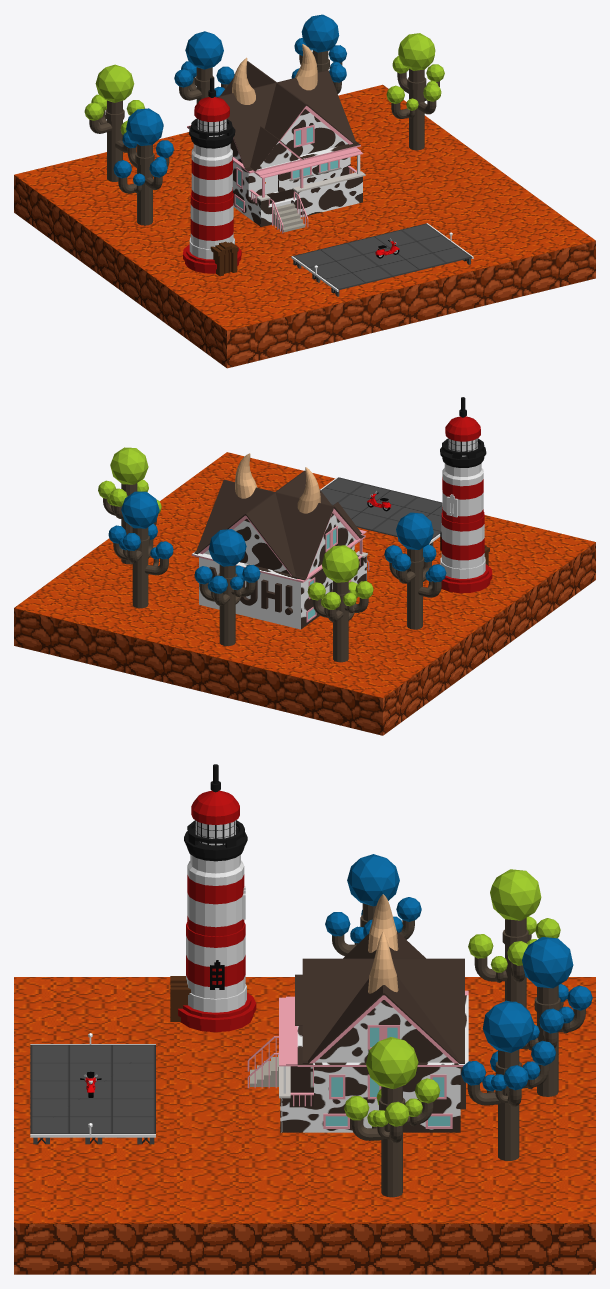
3 renders of one model, top to bottom at view 1: azimuth 30°, elevation 25°; view 2: azimuth 150°, elevation 25°; view 3: azimuth 270°, elevation 25°, orthographic. The views are drawn at different scales.
Parts seen in each view (by area): view 1: Cube.001, Cube.1242, OBJRANDOM_LIGHTHOUSE; view 2: Cube.001, Cube.1242, OBJRANDOM_LIGHTHOUSE; view 3: Cube.001, Cube.1242, OBJRANDOM_LIGHTHOUSE.
Part boxes in pixels (x1,y1,x2,y2): Cube.001: [14, 14, 595, 368]; Cube.1242: [187, 44, 365, 233]; OBJRANDOM_LIGHTHOUSE: [183, 77, 241, 276]; Cube.001: [14, 447, 595, 735]; Cube.1242: [191, 453, 369, 629]; OBJRANDOM_LIGHTHOUSE: [440, 397, 492, 593]; Cube.001: [14, 854, 595, 1274]; Cube.1242: [247, 894, 468, 1132]; OBJRANDOM_LIGHTHOUSE: [170, 764, 256, 1032].
Bounding box in the file's own units: 4000 × 2325 × 4000.
35 materials, 5 textured.
